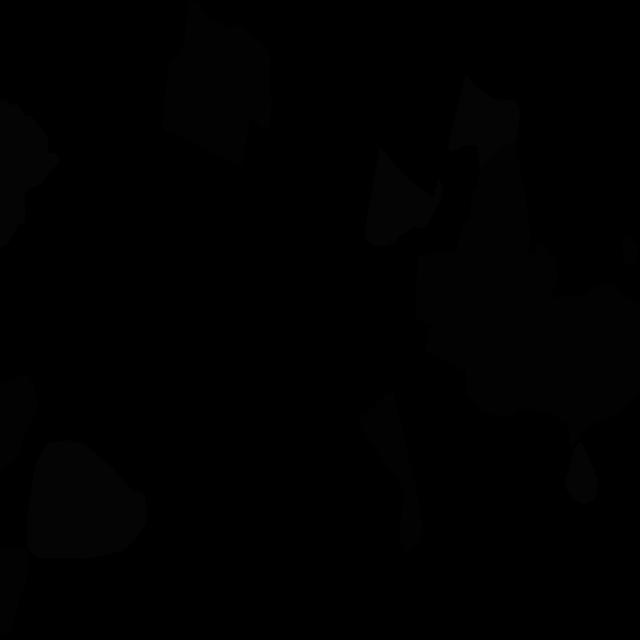cardboard: (471, 143, 640, 448), (425, 174, 523, 402), (162, 0, 272, 166), (359, 392, 424, 553), (0, 374, 38, 474), (415, 250, 451, 324), (0, 545, 28, 637), (622, 236, 638, 268)
soft_plastic: (27, 440, 147, 559), (0, 99, 60, 247), (364, 147, 443, 246), (447, 74, 520, 169), (564, 441, 598, 505)
